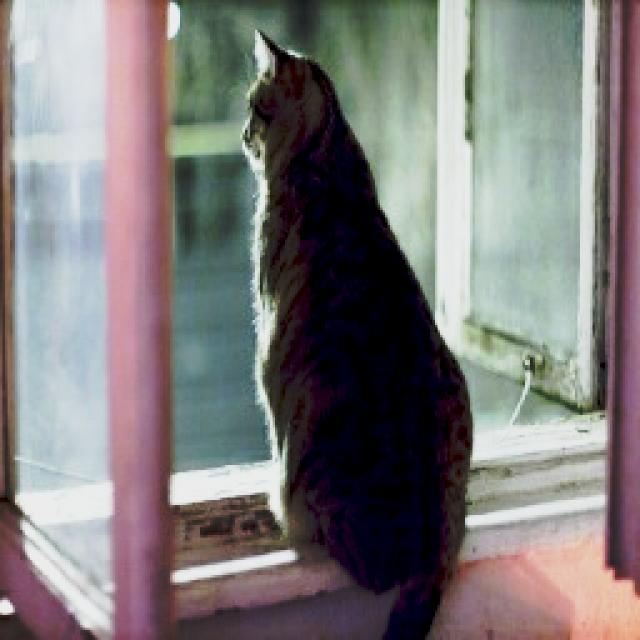cat: (196, 27, 486, 640)
